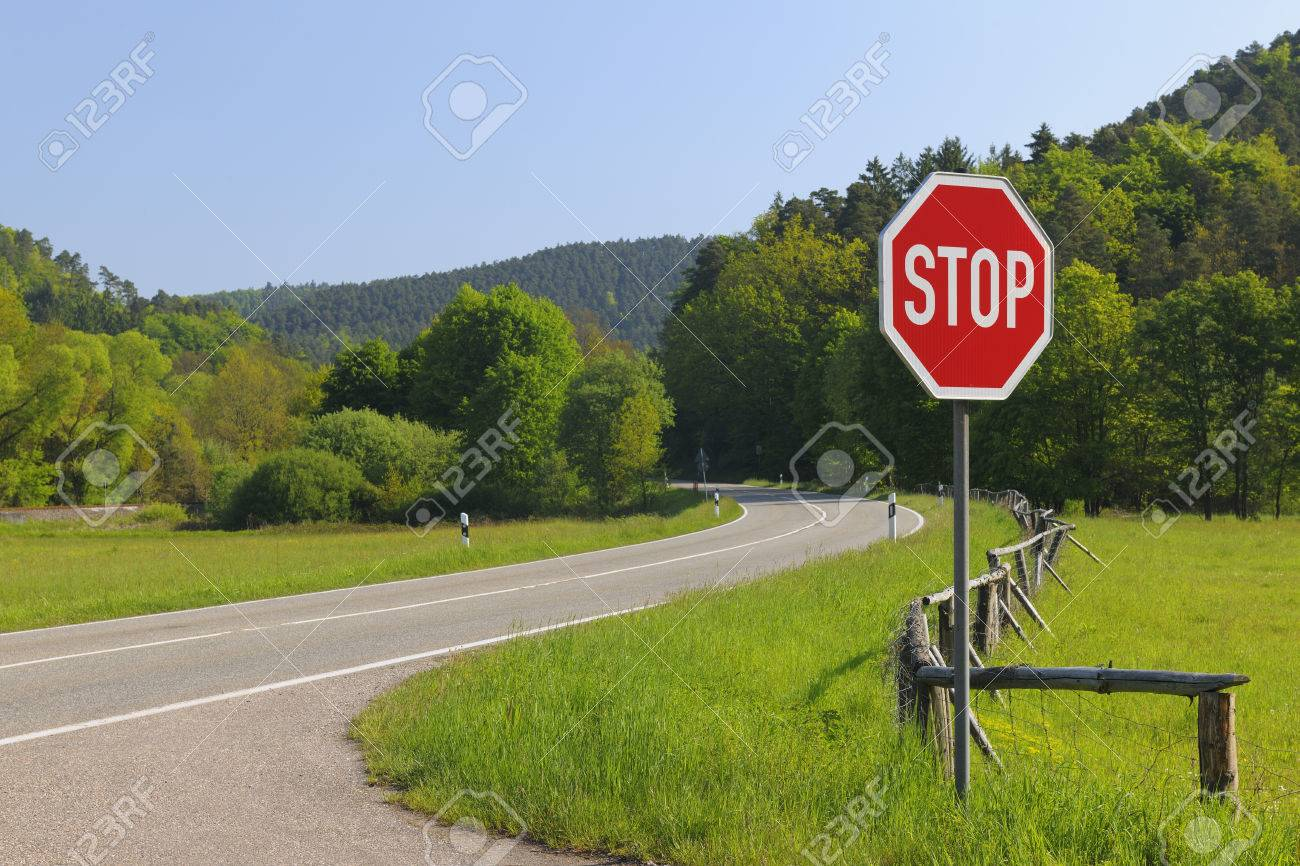stop_sign: (876, 166, 1058, 402)
